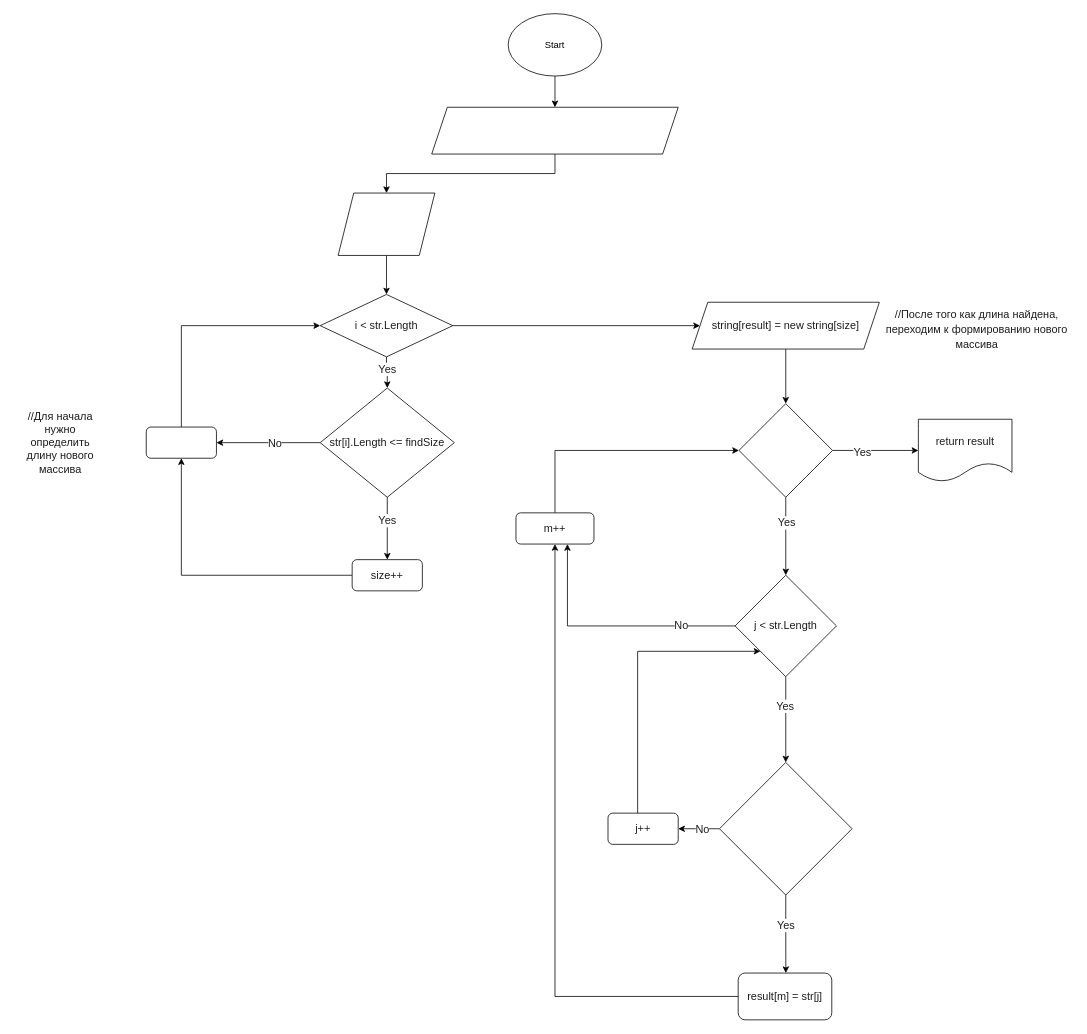
The diagram is 1087 pixels wide and 1034 high, and some of its shapes have lost their labels. Each missing label, with the box of its shape:
i++: (145, 426, 216, 458)
int size = 0 int findSize = 3: (337, 192, 435, 255)
m < size: (738, 403, 833, 497)
str = ["hello", "2", "world", ":-)"]: (431, 106, 678, 154)
str[j].Length <= findSize: (719, 762, 852, 895)
